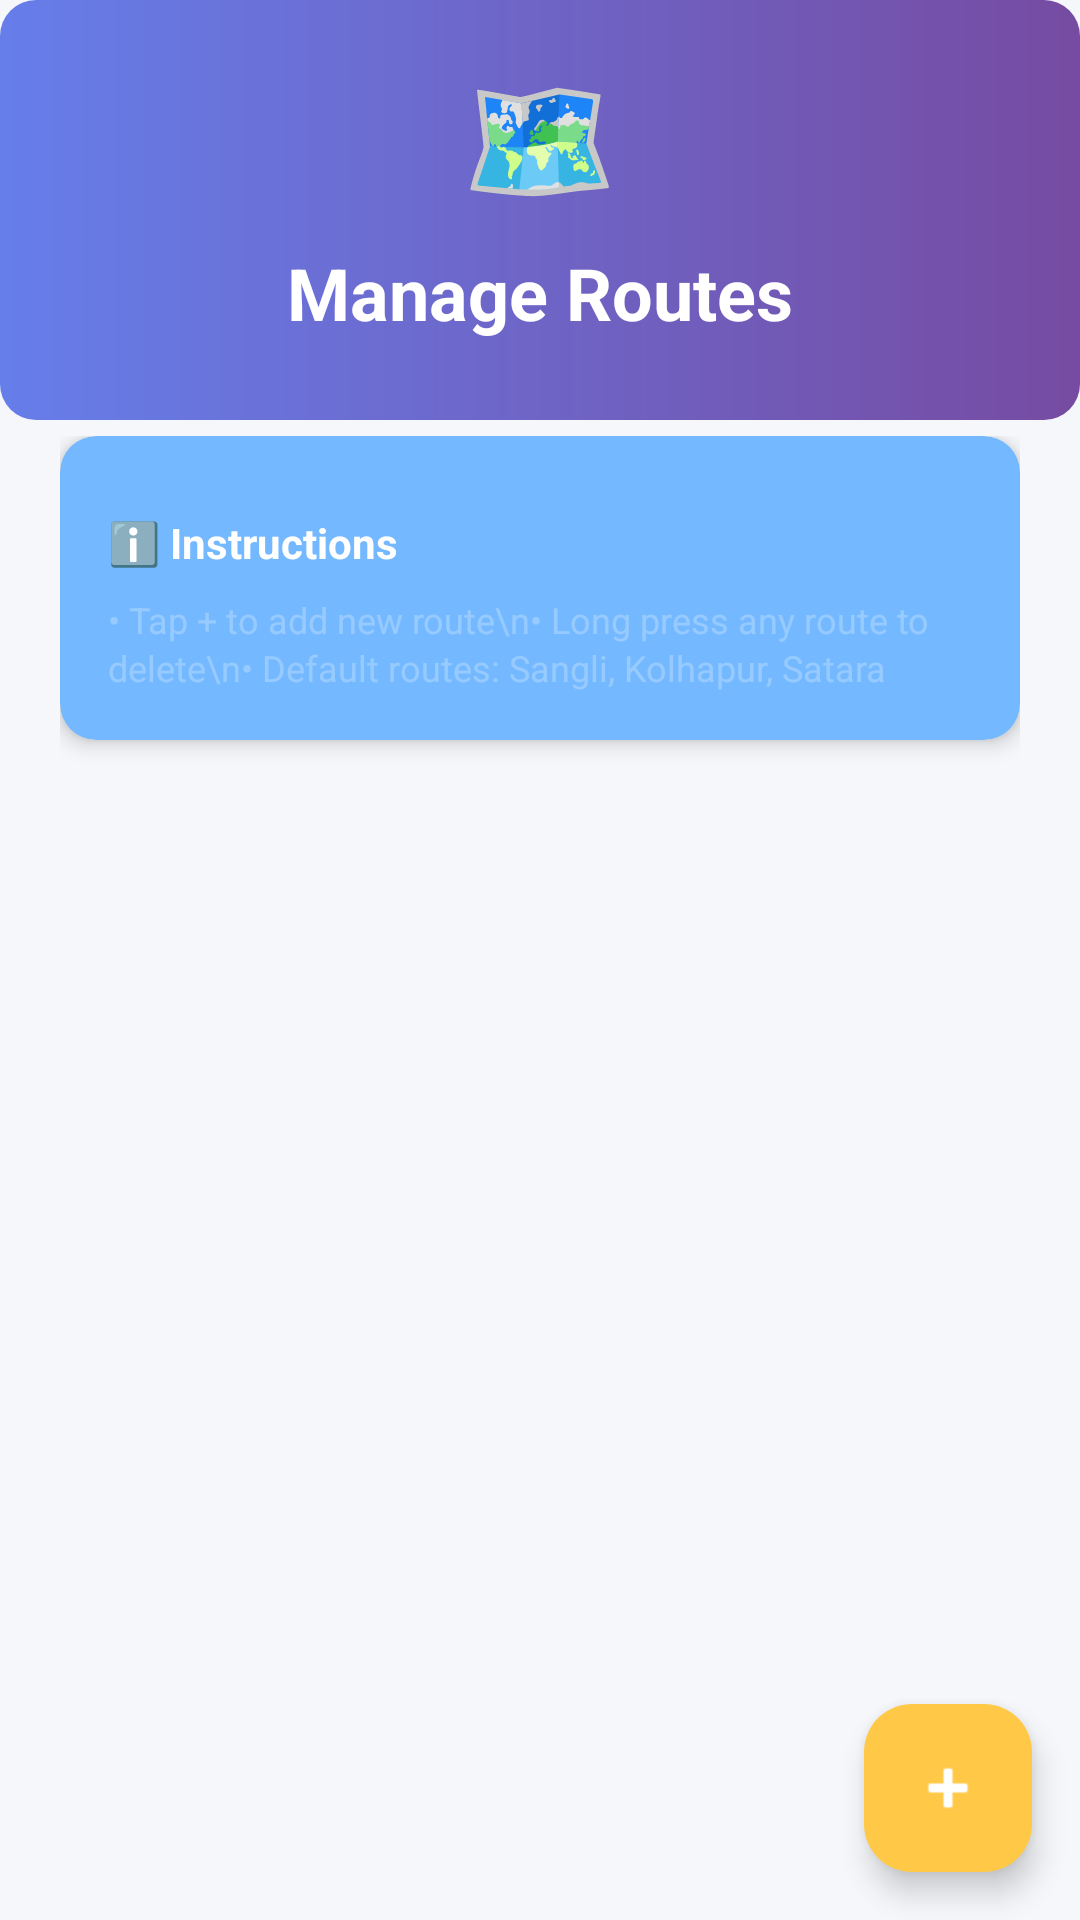

Icons on this 1080x1920 Android screen, each with the point to tap as (x=x, y=y):
Add Route: (x=948, y=1788)
